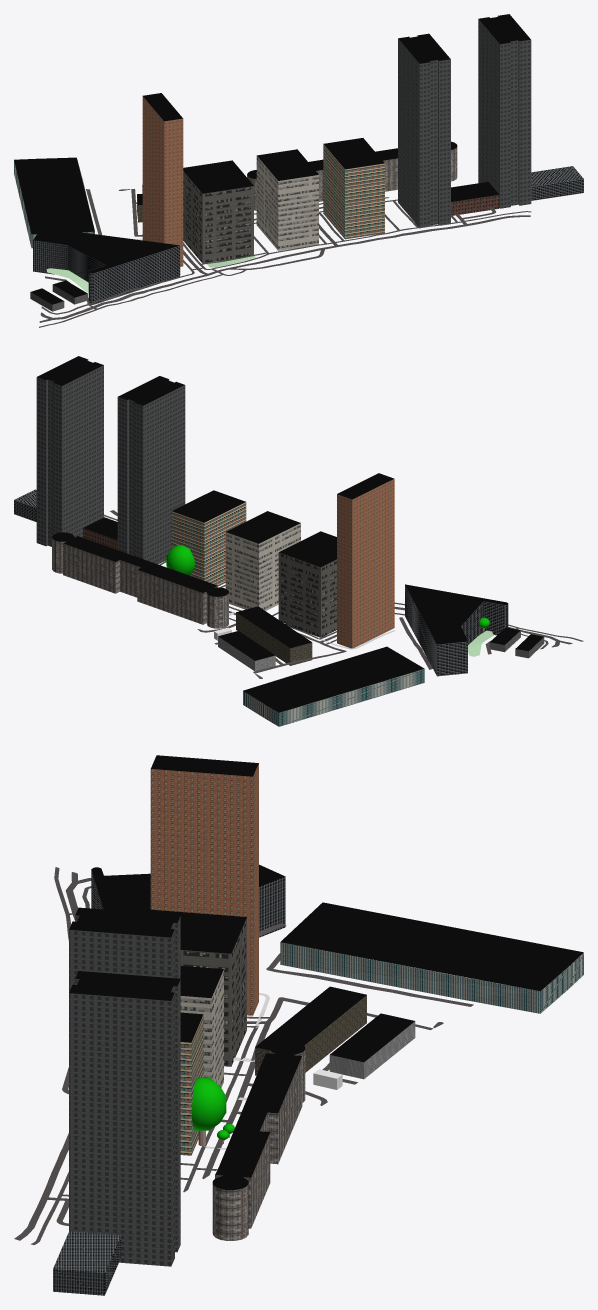
File: preview.glb
3 renders of one model, top to bottom at view 1: azimuth 30°, elevation 25°; view 2: azimuth 150°, elevation 25°; view 3: azimuth 270°, elevation 25°, orthographic. The views are drawn at different scales.
Parts seen in each view (by area): view 1: Building_67_001_DEP_Building_Facade_glb, Building_67_b.001_DEP_Building_Facade_glb, Building_21_001_DEP_Red_Brick_Building_Facade_glb, Building_Mesh77.001_DEP_Building_glb, Building_82_001_DEP_Roof_glb, Building_33_001_DEP_Building_001_glb, Building_31_001_DEP_Brick_Office_Block_Front_glb, Building_90_001_DEP_Building_Facade_001_glb, Building_81_001_DEP_Roof_glb, Building_Mesh77.001_DEP_Roof_glb, Building_80_001_glb, Road_169.001_glb (+12 smaller); view 2: Building_67_b.001_DEP_Building_Facade_glb, Building_67_001_DEP_Building_Facade_glb, Building_21_001_DEP_Red_Brick_Building_Facade_glb, Building_32_001_DEP_Grilled_office_facade_building_glb, Building_82_001_DEP_Roof_glb, Building_Mesh77.001_DEP_Building_glb, Building_33_001_DEP_Building_001_glb, Building_31_001_DEP_Brick_Office_Block_Front_glb, Building_82_001_DEP_Office_Building_glb, Building_32_001_DEP_Roof_glb, Building_81_001_DEP_Building_Facade_001_glb, Building_81_001_DEP_Roof_glb (+14 smaller); view 3: Building_67_b.001_DEP_Building_Facade_glb, Building_21_001_DEP_Red_Brick_Building_Facade_glb, Building_82_001_DEP_Roof_glb, Building_82_001_DEP_Office_Building_glb, Building_32_001_DEP_Roof_glb, Building_32_001_DEP_Grilled_office_facade_building_glb, Building_67_001_DEP_Building_Facade_glb, Building_80_001_glb, Building_Mesh77.001_DEP_Building_glb, Building_20_001_DEP_Roof_glb, Building_Mesh77.001_DEP_Roof_glb, Building_67_001_DEP_Roof_glb (+13 smaller).
Boxes of the visible parts, x1,y1,x2,y2 form: Building_67_001_DEP_Building_Facade_glb: (398,35,450,228); Building_67_b.001_DEP_Building_Facade_glb: (478,16,531,208); Building_21_001_DEP_Red_Brick_Building_Facade_glb: (142,96,183,266); Building_Mesh77.001_DEP_Building_glb: (183,171,253,263); Building_82_001_DEP_Roof_glb: (14,157,94,234); Building_33_001_DEP_Building_001_glb: (256,156,318,250); Building_31_001_DEP_Brick_Office_Block_Front_glb: (323,144,384,239); Building_90_001_DEP_Building_Facade_001_glb: (67,245,180,304); Building_81_001_DEP_Roof_glb: (33,227,152,254); Building_Mesh77.001_DEP_Roof_glb: (183,160,253,193); Building_80_001_glb: (531,166,583,200); Road_169.001_glb: (51,215,530,319); Building_67_b.001_DEP_Building_Facade_glb: (36,360,103,546); Building_67_001_DEP_Building_Facade_glb: (117,379,185,564); Building_21_001_DEP_Red_Brick_Building_Facade_glb: (337,479,394,648); Building_32_001_DEP_Grilled_office_facade_building_glb: (52,538,228,628); Building_82_001_DEP_Roof_glb: (243,646,424,712); Building_Mesh77.001_DEP_Building_glb: (278,552,336,637); Building_33_001_DEP_Building_001_glb: (225,523,300,610); Building_31_001_DEP_Brick_Office_Block_Front_glb: (171,502,246,586); Building_82_001_DEP_Office_Building_glb: (243,656,424,726); Building_32_001_DEP_Roof_glb: (52,532,228,596); Building_81_001_DEP_Building_Facade_001_glb: (411,597,467,676); Building_81_001_DEP_Roof_glb: (411,593,467,644); Building_67_b.001_DEP_Building_Facade_glb: (69,978,180,1266); Building_21_001_DEP_Red_Brick_Building_Facade_glb: (150,763,258,1015); Building_82_001_DEP_Roof_glb: (280,902,583,991); Building_82_001_DEP_Office_Building_glb: (280,942,583,1013); Building_32_001_DEP_Roof_glb: (212,1040,305,1190); Building_32_001_DEP_Grilled_office_facade_building_glb: (212,1050,305,1240); Building_67_001_DEP_Building_Facade_glb: (69,915,180,992); Building_80_001_glb: (53,1231,120,1295); Building_Mesh77.001_DEP_Building_glb: (180,918,246,1066); Building_20_001_DEP_Roof_glb: (255,986,366,1050); Building_Mesh77.001_DEP_Roof_glb: (143,909,246,953); Building_67_001_DEP_Roof_glb: (69,907,180,937).
Size of the model in its own units: 4.93 by 1.43 by 2.74.
19 materials, 13 textured.
